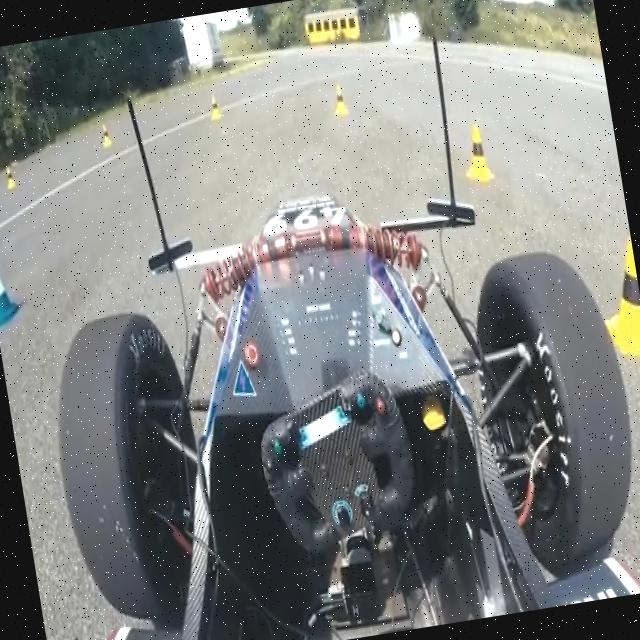blue_cone: (0, 254, 22, 327)
yellow_cone: (458, 121, 496, 186), (329, 81, 350, 117), (207, 92, 224, 122), (100, 122, 114, 149), (5, 164, 18, 190)
